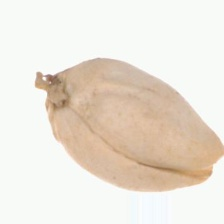L1: (35, 66, 73, 129), (181, 133, 223, 186)
L2: (36, 57, 223, 194)
